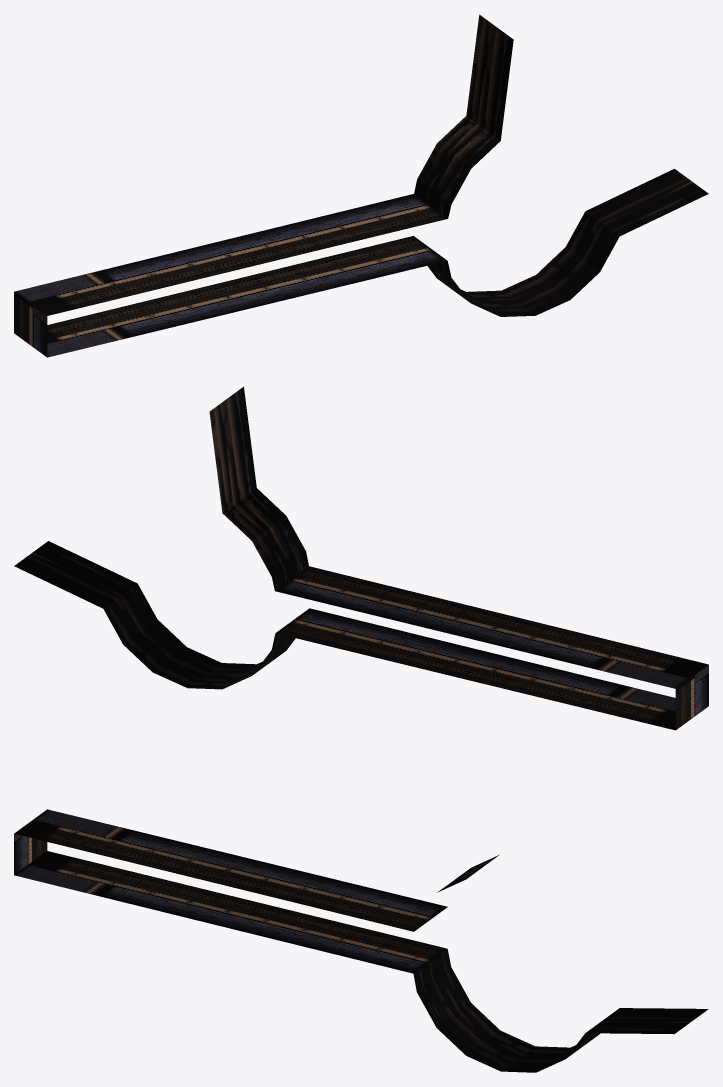
Rendered from collide_DoorXCorner2.obj.
The picture shows the model from 3 angles, top to bottom: view 1: azimuth 30°, elevation 25°; view 2: azimuth 150°, elevation 25°; view 3: azimuth 330°, elevation 25°; orthographic projection.
Parts seen in each view (by area): view 1: collide_DoorXCorner2_Cube.003, object 2; view 2: collide_DoorXCorner2_Cube.003, object 2; view 3: collide_DoorXCorner2_Cube.003, object 2.
Boxes of the visible parts, x1=… form: collide_DoorXCorner2_Cube.003: x1=14, y1=194, x2=447, y2=357; object 2: x1=414, y1=14, x2=708, y2=316; collide_DoorXCorner2_Cube.003: x1=275, y1=566, x2=708, y2=730; object 2: x1=14, y1=386, x2=308, y2=689; collide_DoorXCorner2_Cube.003: x1=14, y1=809, x2=447, y2=973; object 2: x1=413, y1=854, x2=708, y2=1072.
Bounding box in the file's own units: 494 × 201 × 44.53.
